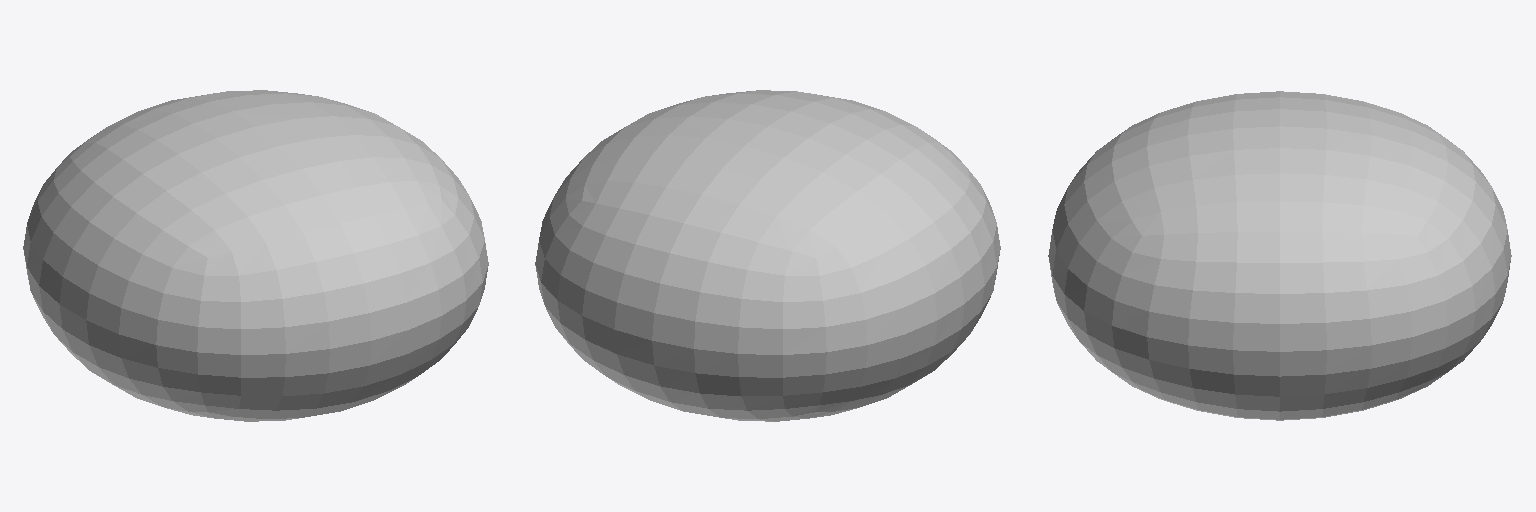
File: toadPie2.obj
The picture shows the model from 3 angles: view 1: azimuth 30°, elevation 25°; view 2: azimuth 150°, elevation 25°; view 3: azimuth 270°, elevation 25°; orthographic projection.
Visible parts, largest first — view 1: Toad.002; view 2: Toad.002; view 3: Toad.002.
Boxes of the visible parts, x1=… form: Toad.002: x1=23, y1=90, x2=488, y2=421; Toad.002: x1=535, y1=90, x2=1000, y2=421; Toad.002: x1=1048, y1=91, x2=1511, y2=420.
Size of the model in its own units: 1.4 by 0.8839 by 1.43.